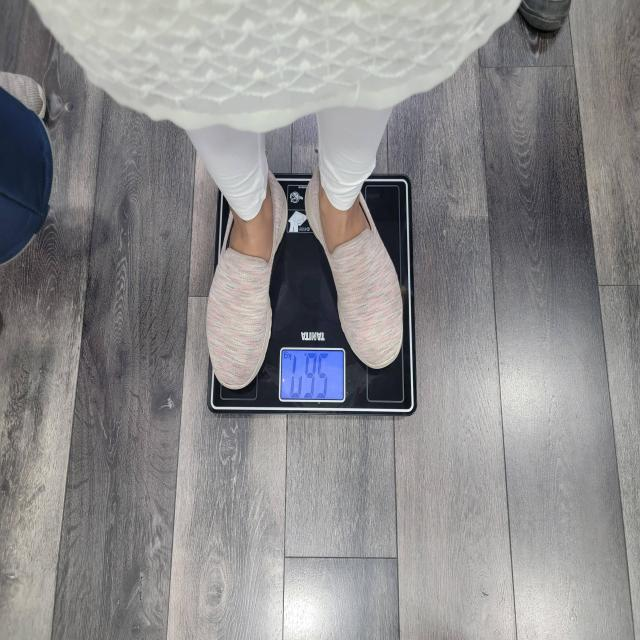ws: (240, 224, 413, 414)
